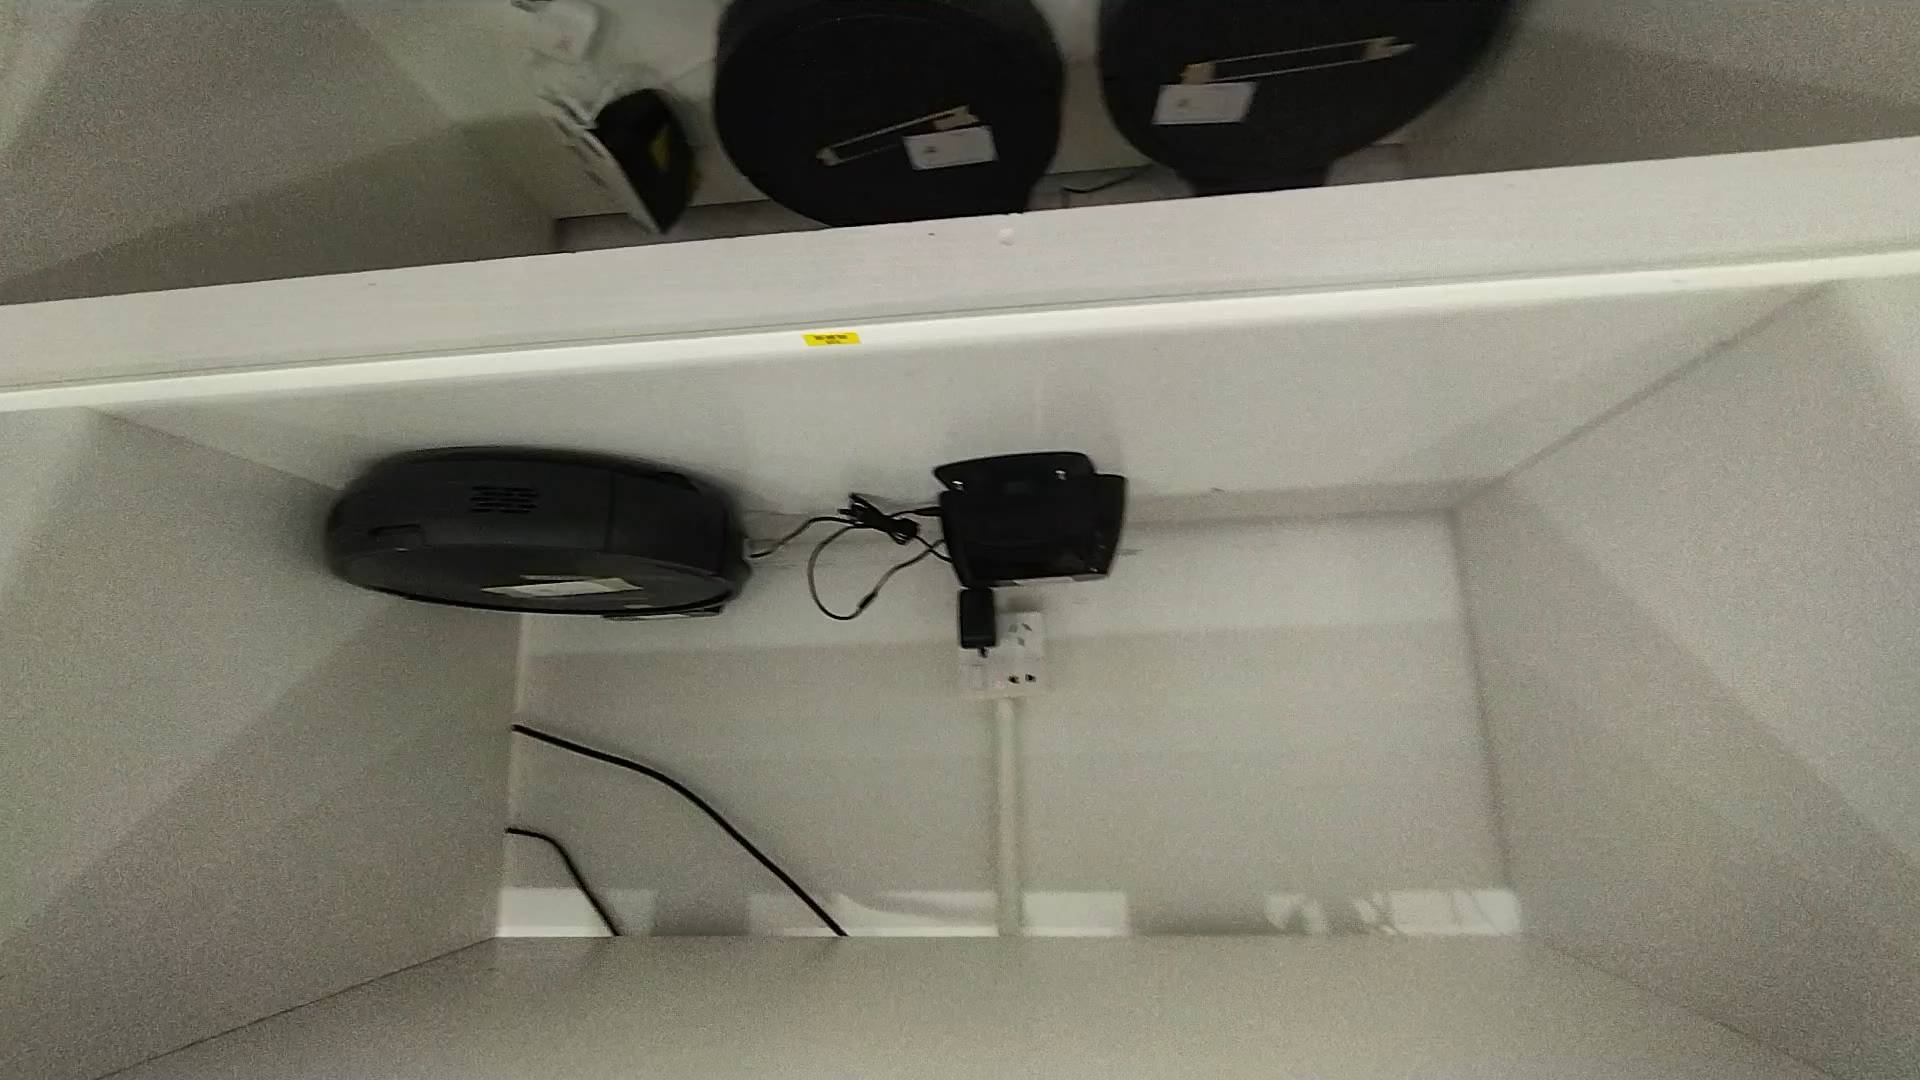recharge seat: (932, 450, 1142, 587)
